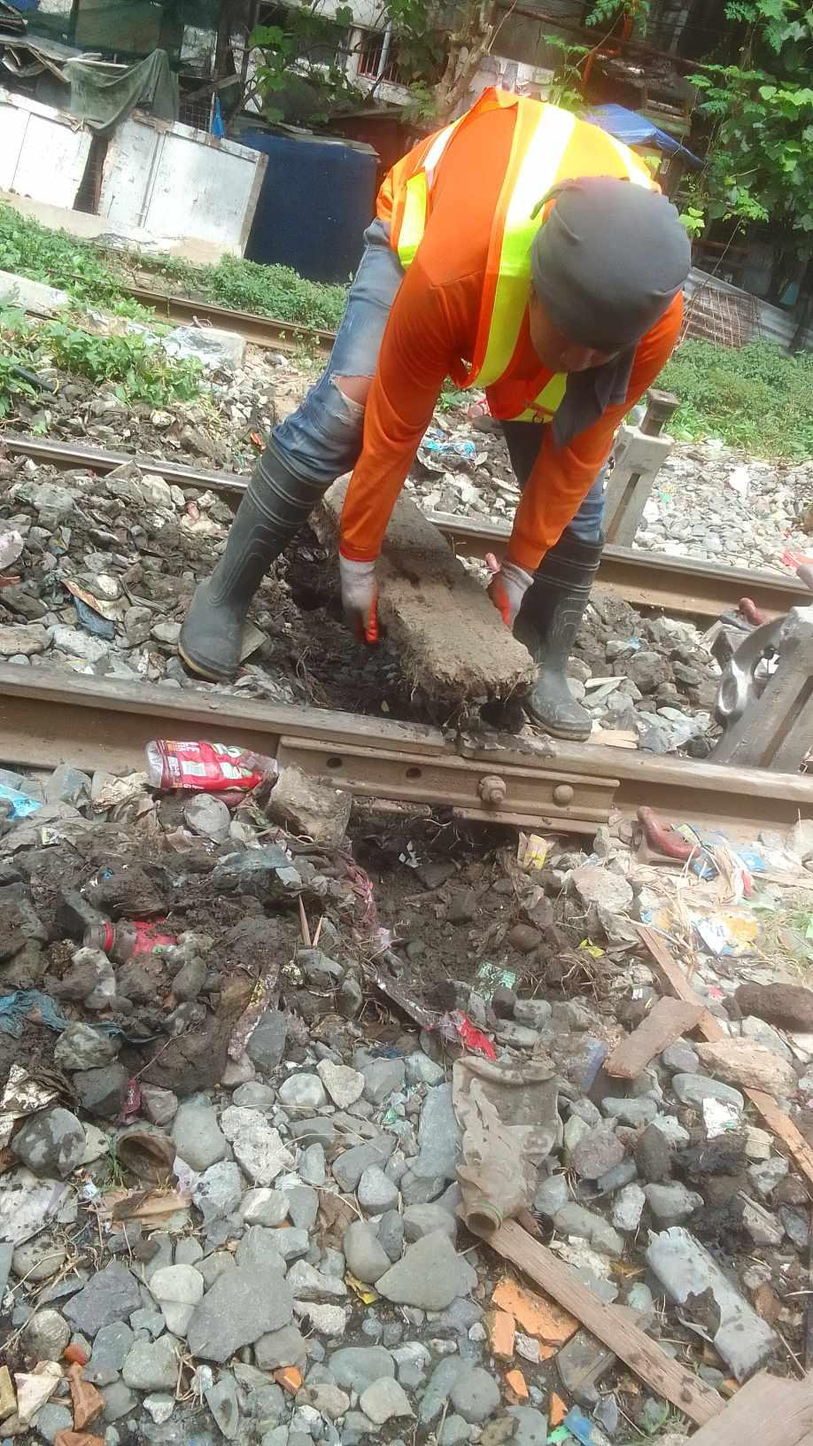railway-gap: (400, 699, 498, 788)
